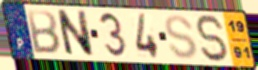3: (98, 10, 129, 59)
4: (135, 12, 161, 60)
B: (26, 8, 63, 56)
N: (55, 8, 96, 58)
S: (194, 13, 232, 64), (163, 13, 199, 61)
